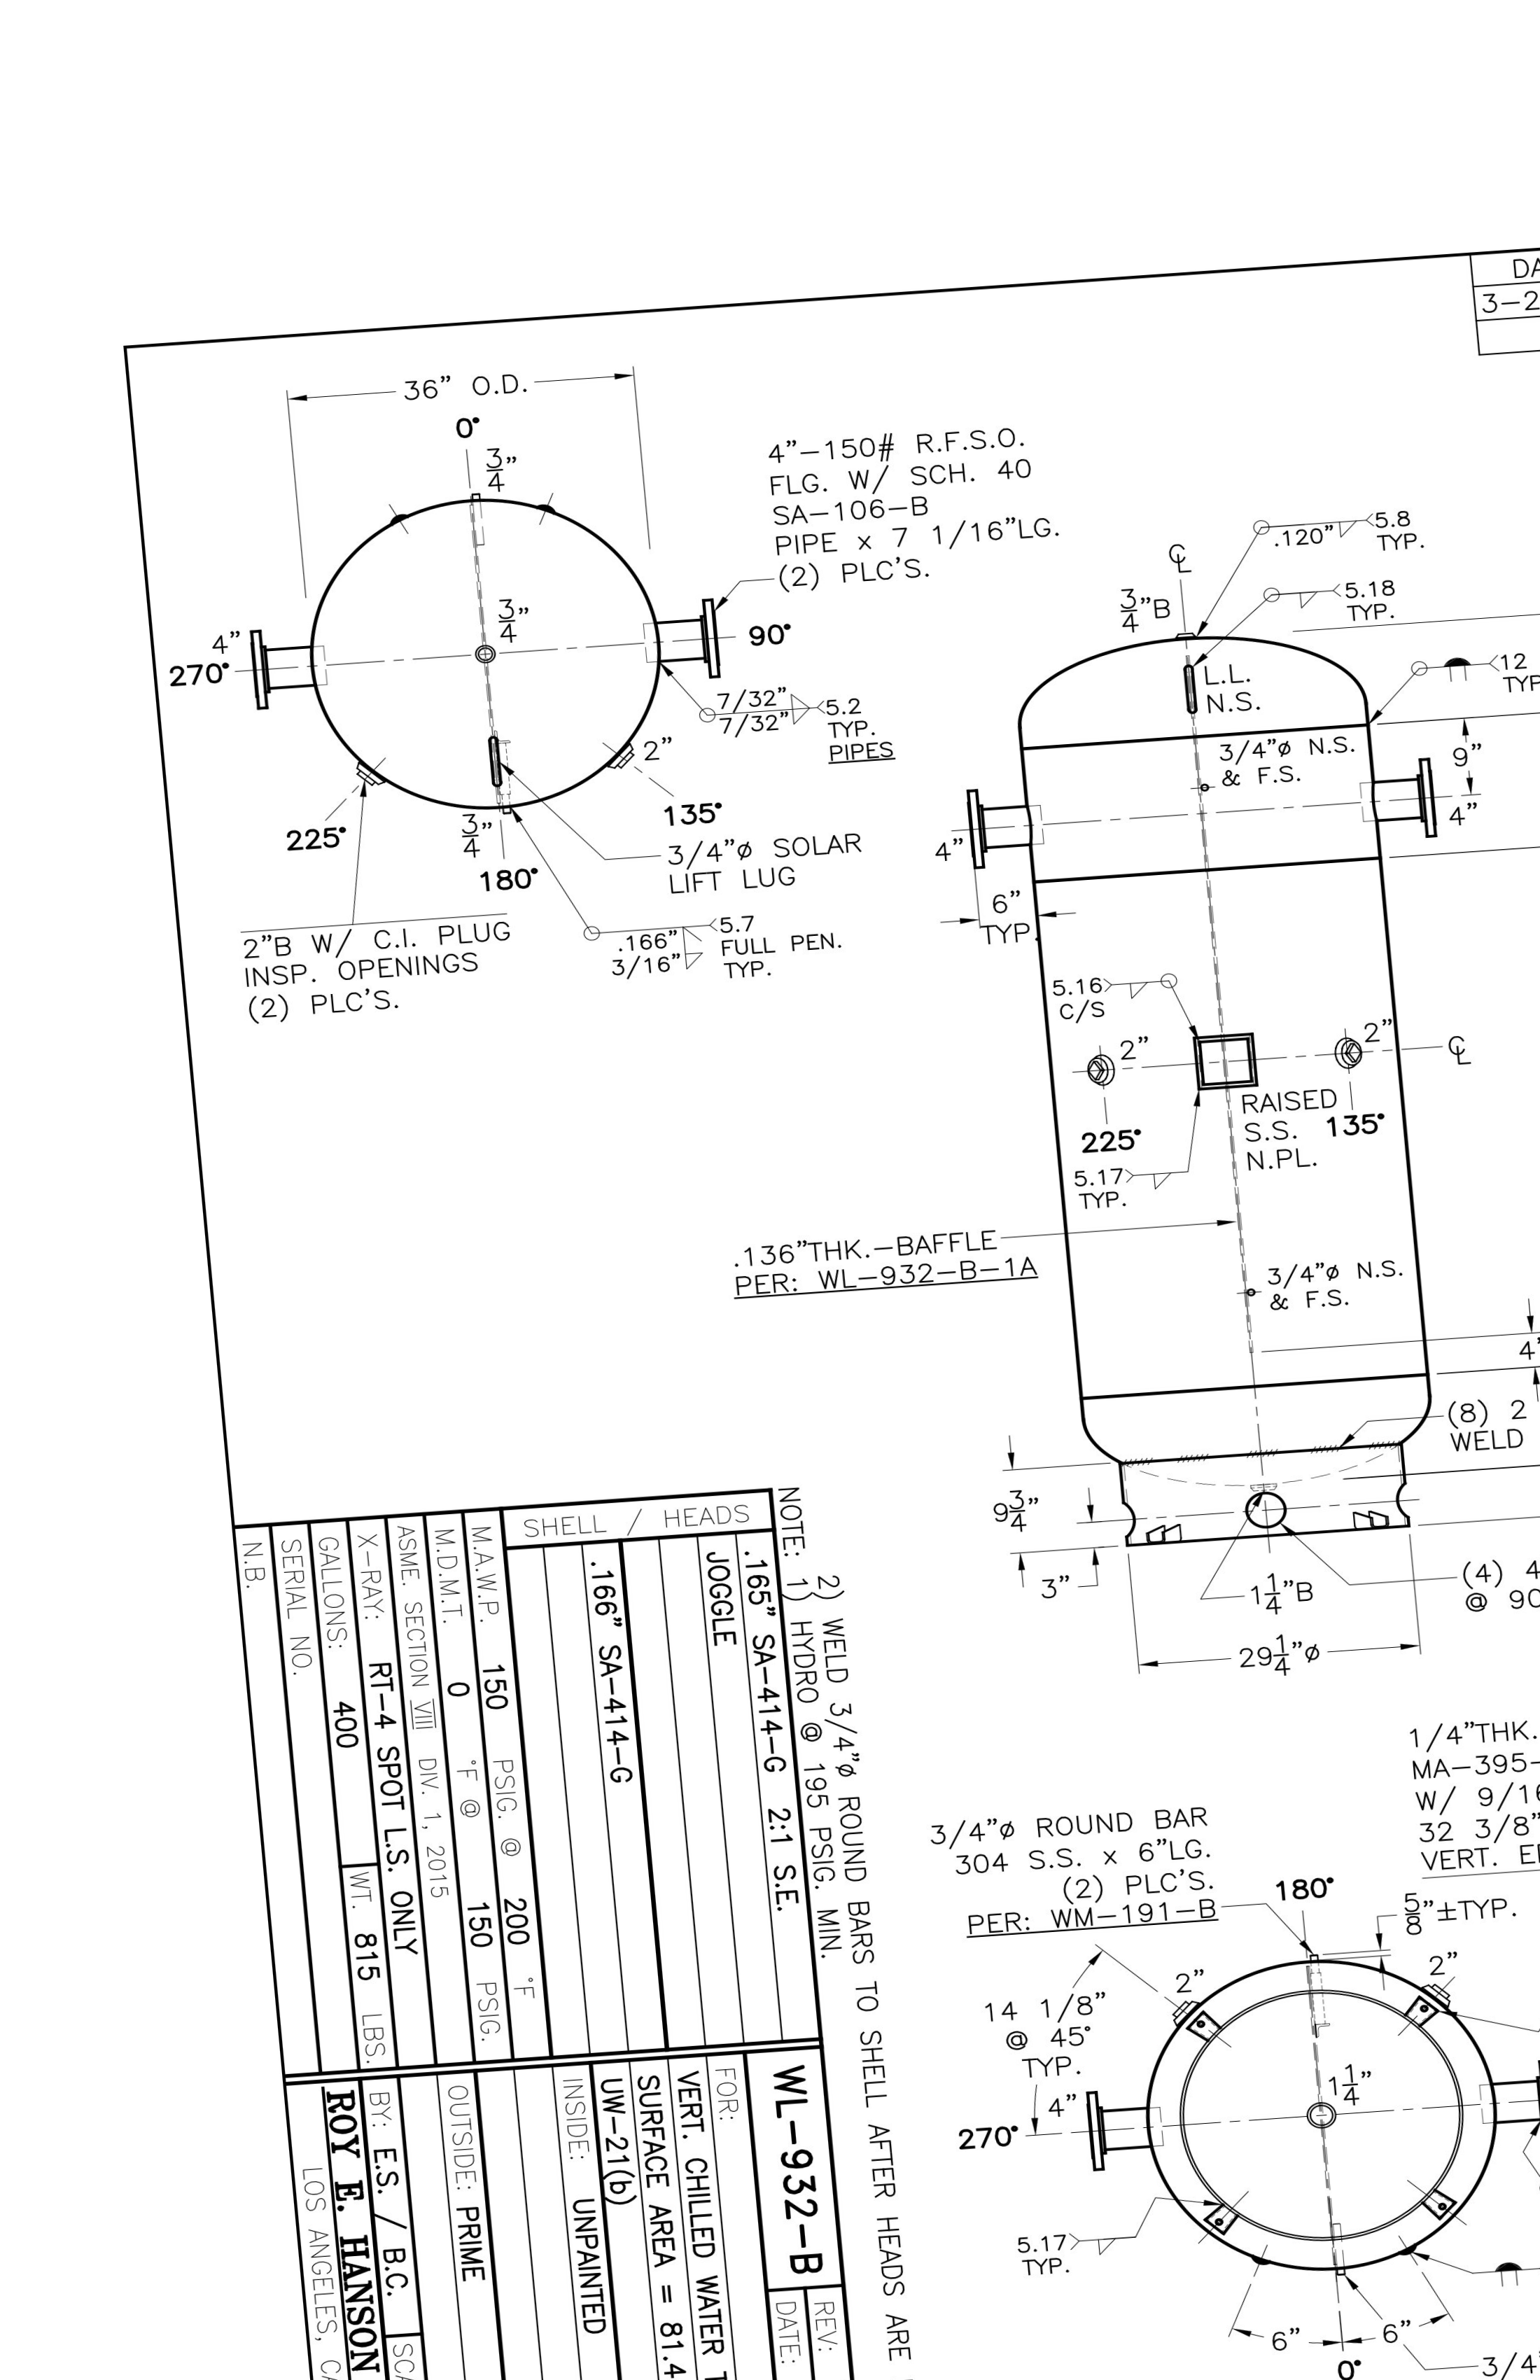Nozzle: (1063, 2064, 1179, 2200), (638, 578, 746, 713), (947, 765, 1051, 897), (229, 612, 330, 737), (1351, 753, 1455, 862), (1464, 2043, 1540, 2184)
